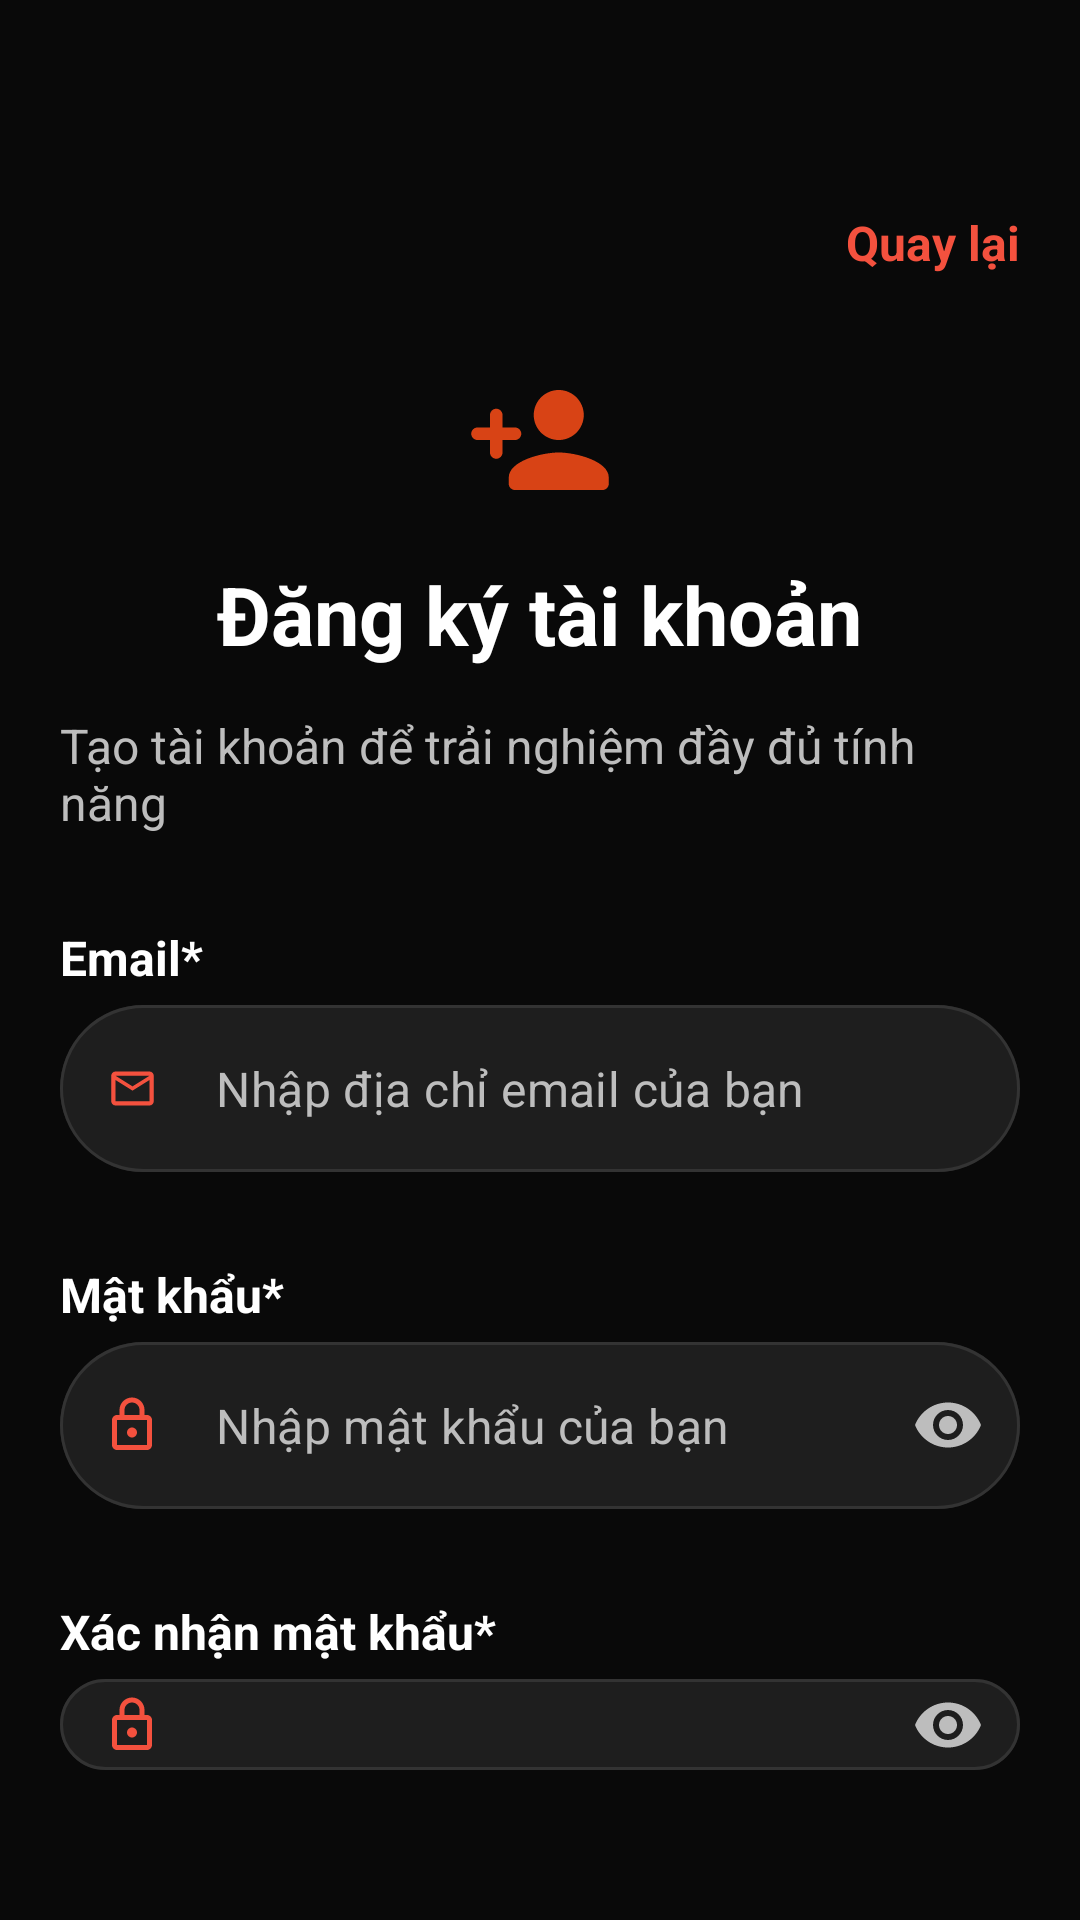

Named icons in this screenshot (1080 × 1920) and their centers, [x,y]:
person add: [540,440]
